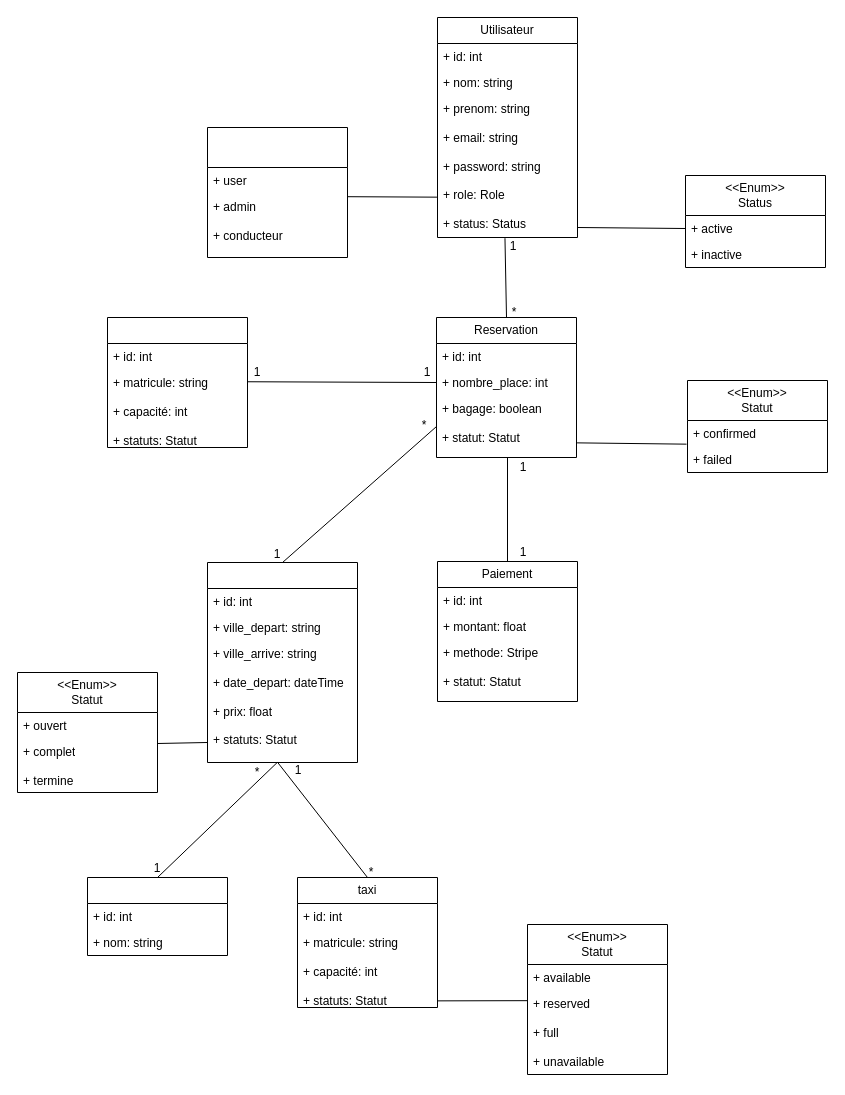
This 845x1095 diagram has some shape labels left out. Each missing label, with the box of its shape:
<<Enum>> Role: (206, 126, 348, 258)
billet: (106, 316, 248, 448)
Trajet: (206, 562, 358, 762)
ville: (86, 876, 228, 956)
